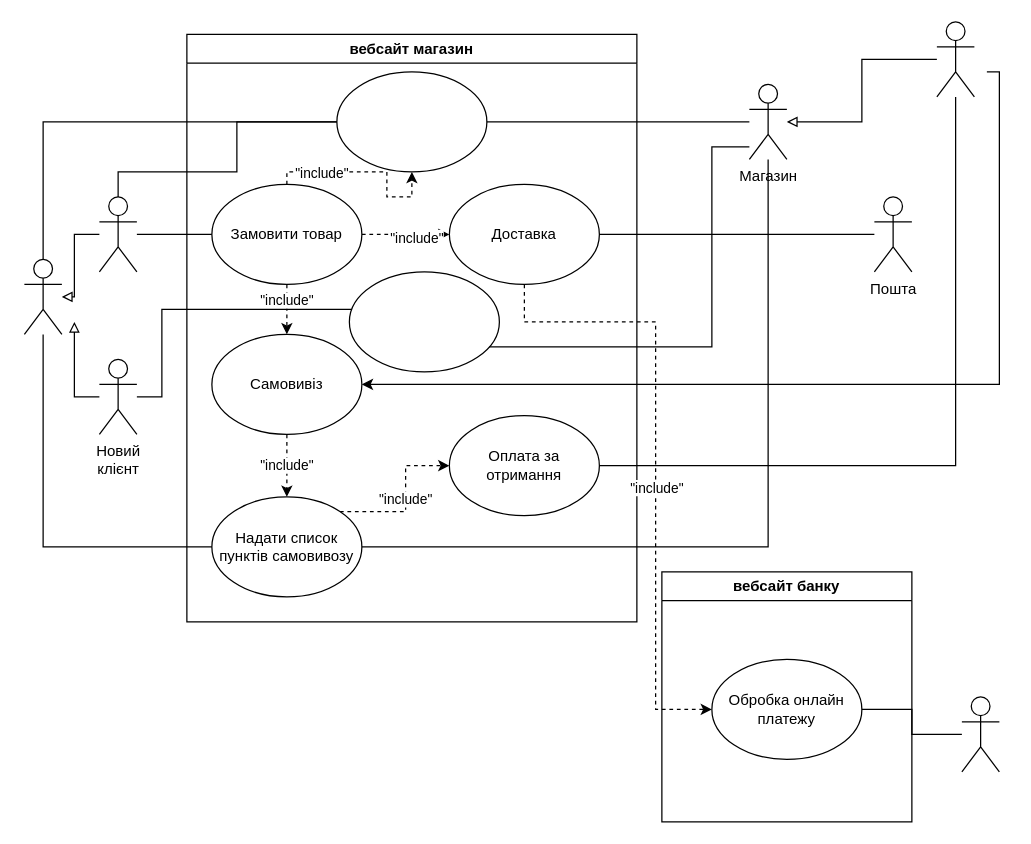
Some shapes in this 1031 by 844 pixel diagram are drawn without their labels. The centre of each missing label's shape, as x and y in pixels:
"Банк" belongs at point (980, 734).
"Зареєстрований клієнт" belongs at point (117, 234).
"Клієнт" belongs at point (42, 296).
"Надати асортимент" belongs at point (411, 121).
"Реєстрація" belongs at point (423, 321).
"Сховище" belongs at point (955, 59).
